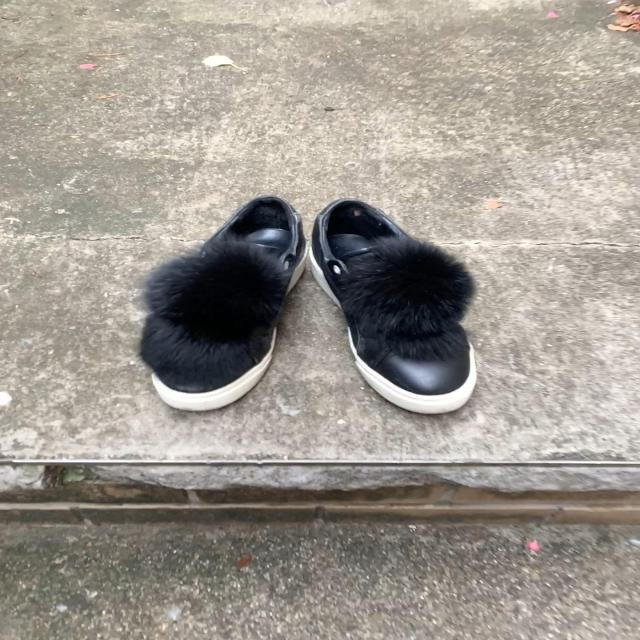shoe: (139, 196, 307, 416), (309, 199, 476, 400)
